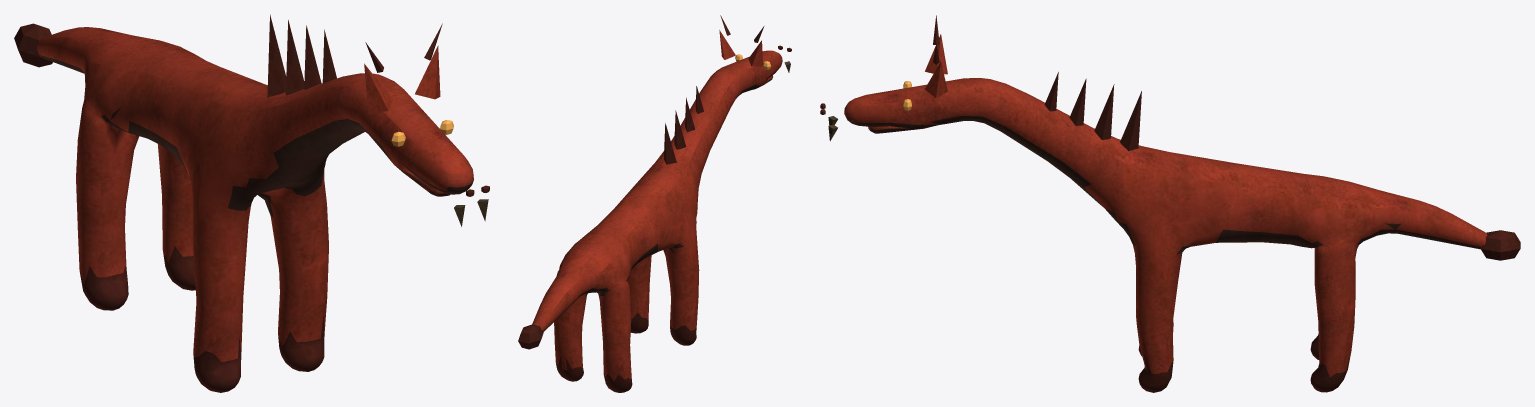
The model's file is pet_pt_jeoktoma.glb.
The picture shows the model from 3 angles, left to right: view 1: azimuth 30°, elevation 25°; view 2: azimuth 150°, elevation 25°; view 3: azimuth 270°, elevation 25°; orthographic projection. The views are drawn at different scales.
Visible parts, largest first — view 1: pet_pt_jeoktoma; view 2: pet_pt_jeoktoma; view 3: pet_pt_jeoktoma.
Boxes of the visible parts, x1,y1,x2,y2 form: pet_pt_jeoktoma: [14, 14, 489, 392]; pet_pt_jeoktoma: [518, 15, 791, 392]; pet_pt_jeoktoma: [820, 15, 1520, 392].
Size of the model in its own units: 0.3795 by 1.29 by 2.36.
5 materials, 5 textured.
